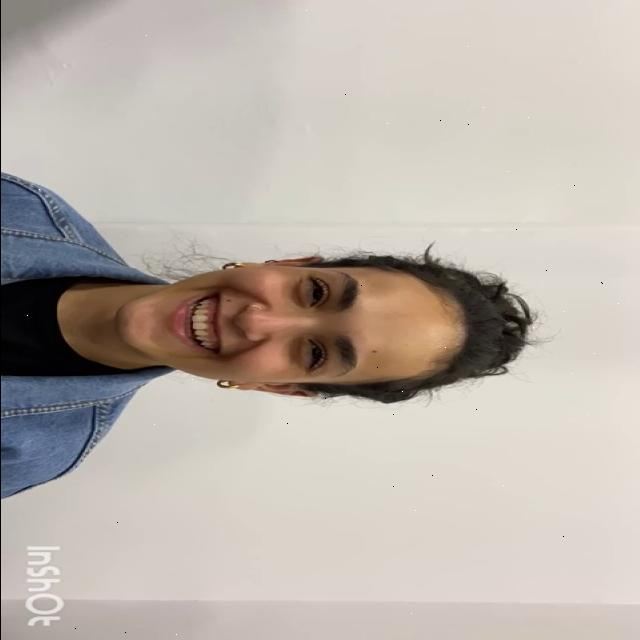happy: (114, 264, 464, 385)
